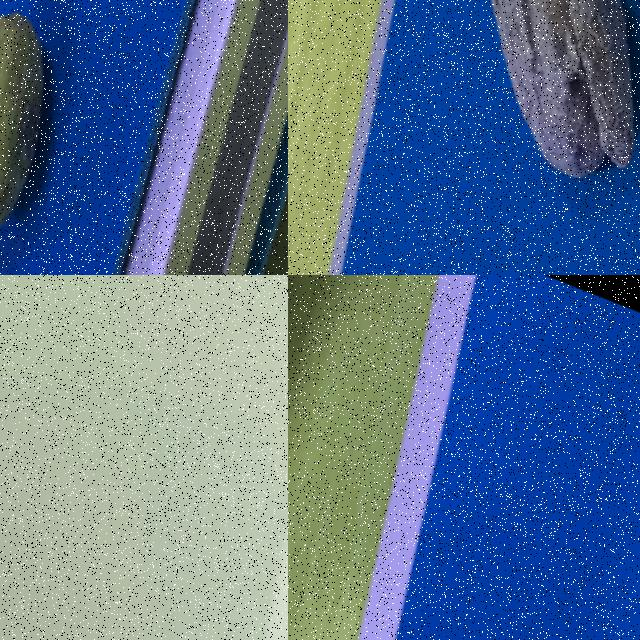Agglomerated_cocoabeans: (361, 0, 639, 274)
Fine_cocoabeans: (0, 0, 181, 274)
Flat_cocoabeans: (192, 359, 287, 639), (397, 536, 639, 639)
